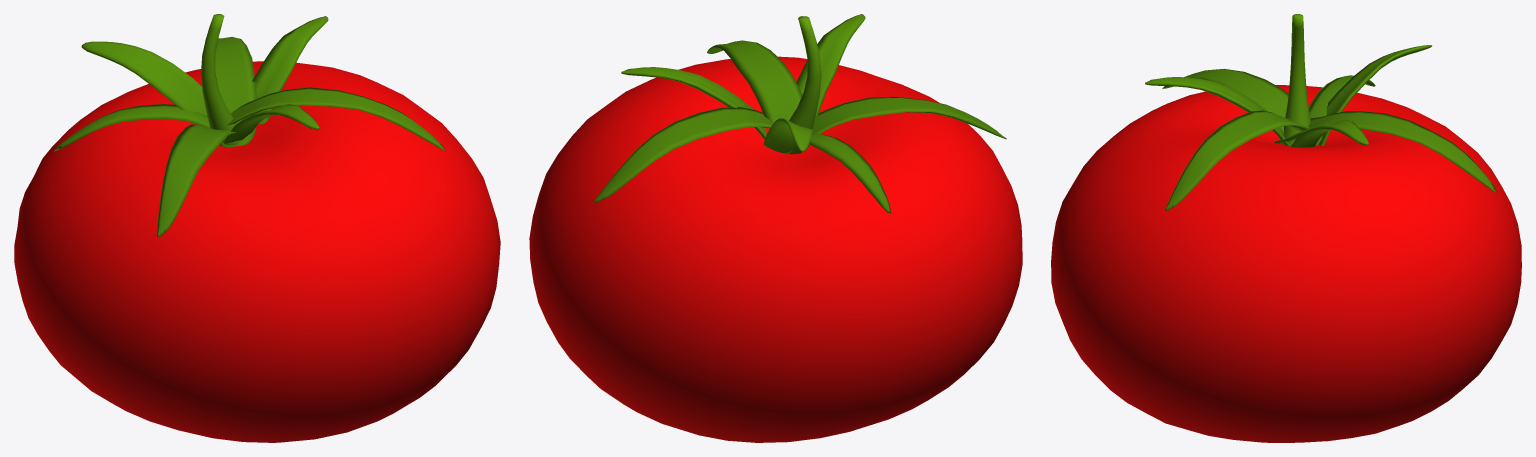
Rendered from Tomato.fbx.
The picture shows the model from 3 angles, left to right: view 1: azimuth 30°, elevation 25°; view 2: azimuth 150°, elevation 25°; view 3: azimuth 270°, elevation 25°; orthographic projection. The views are drawn at different scales.
Visible parts, largest first — view 1: Tomato; view 2: Tomato; view 3: Tomato.
Boxes of the visible parts, x1,y1,x2,y2 form: Tomato: [14, 14, 500, 442]; Tomato: [529, 14, 1022, 442]; Tomato: [1051, 14, 1521, 442].
Bounding box in the file's own units: 102 × 91.16 × 103.
